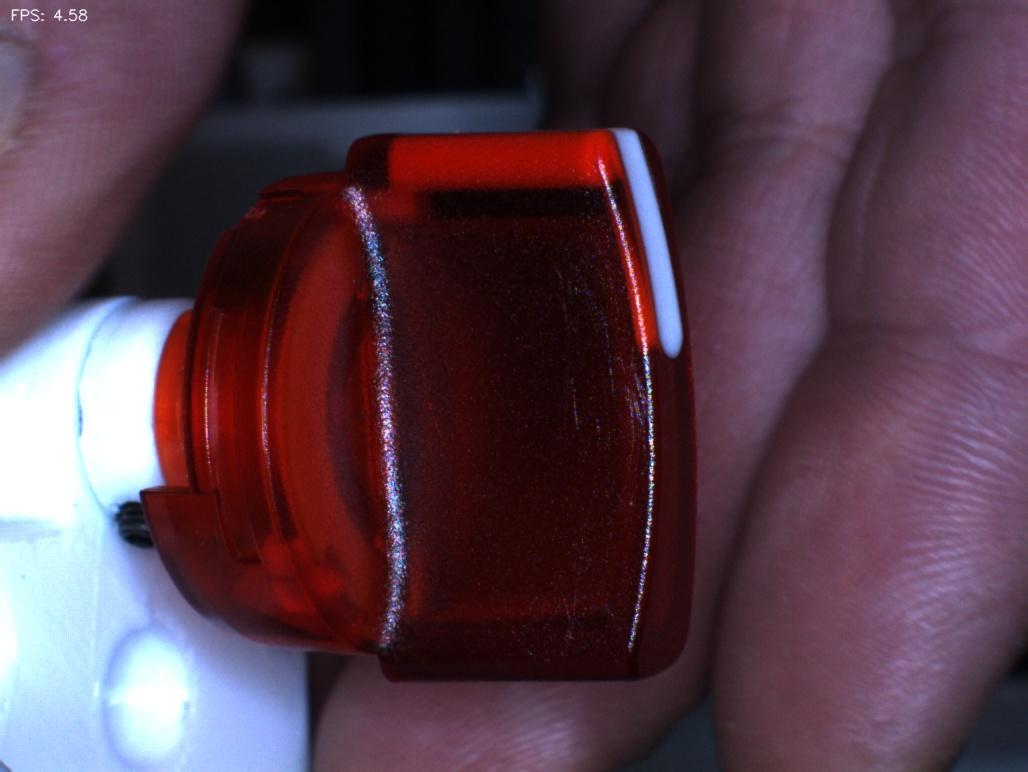Givrage: (552, 260, 645, 545)
